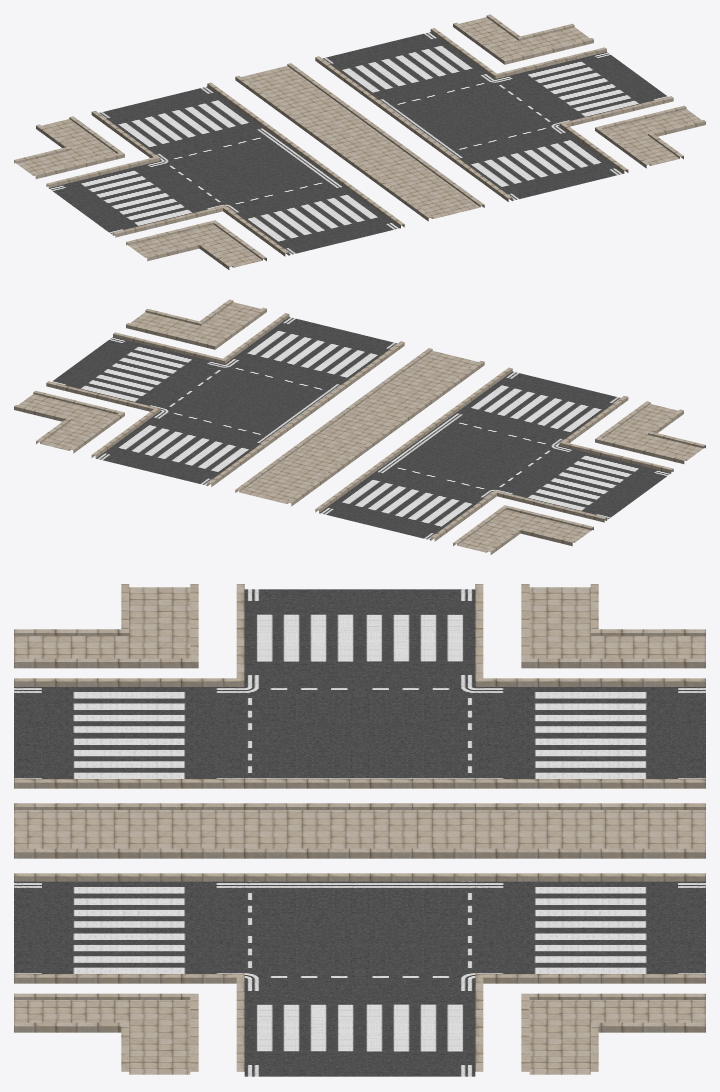
Rendered from Cross2X.FBX.
The picture shows the model from 3 angles, top to bottom: view 1: azimuth 30°, elevation 25°; view 2: azimuth 150°, elevation 25°; view 3: azimuth 270°, elevation 25°; orthographic projection. The views are drawn at different scales.
Visible parts, largest first — view 1: Cross2X; view 2: Cross2X; view 3: Cross2X.
Part boxes in pixels (bbox=[...]): Cross2X: bbox=[14, 14, 705, 269]; Cross2X: bbox=[14, 299, 705, 554]; Cross2X: bbox=[14, 584, 705, 1076].
Bounding box in the file's own units: 50 × 0.3 × 30.
3 materials, 3 textured.
